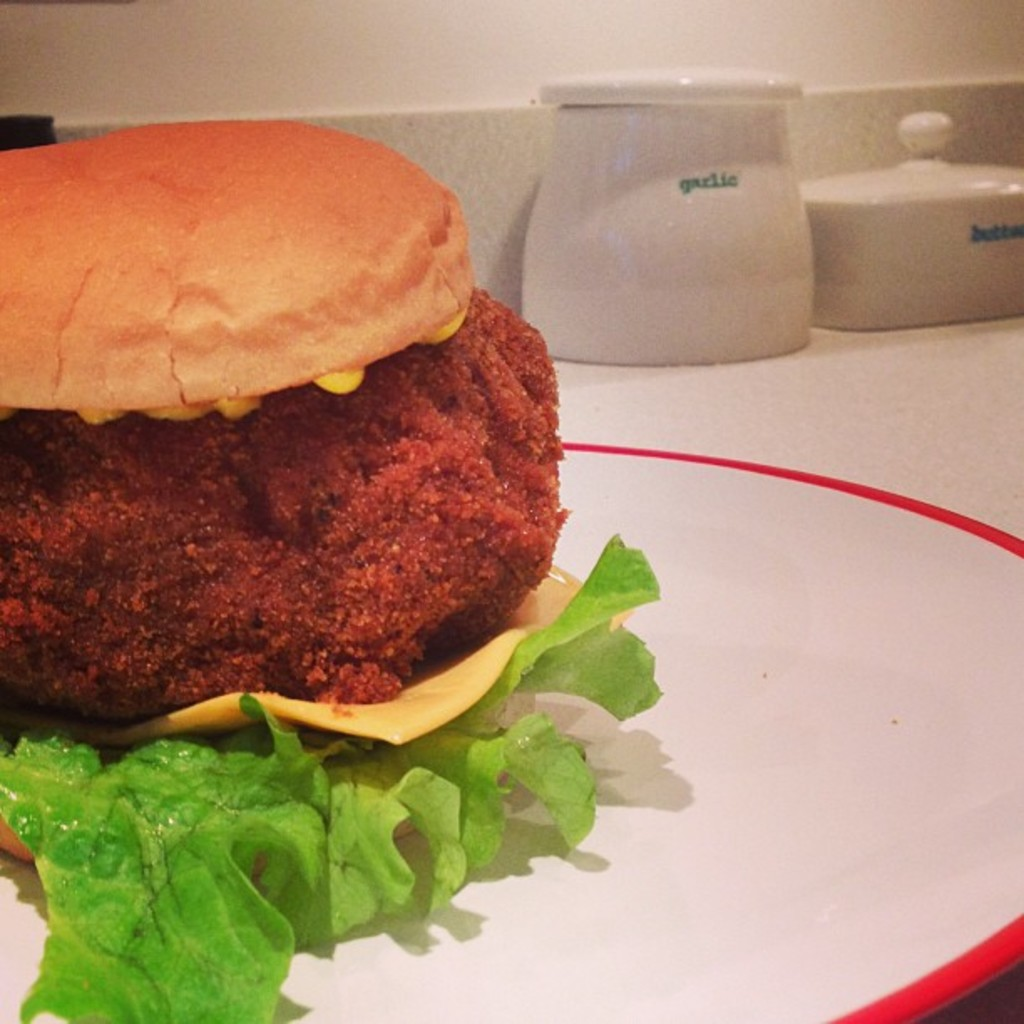Hamburger: (0, 125, 654, 1022)
